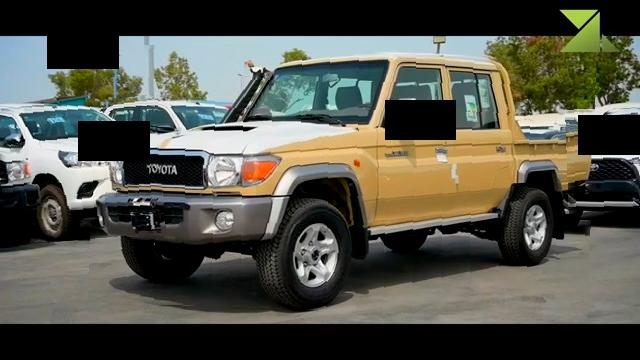MIL_HMMWV: (90, 48, 594, 315), (0, 98, 163, 243), (566, 108, 640, 220)
